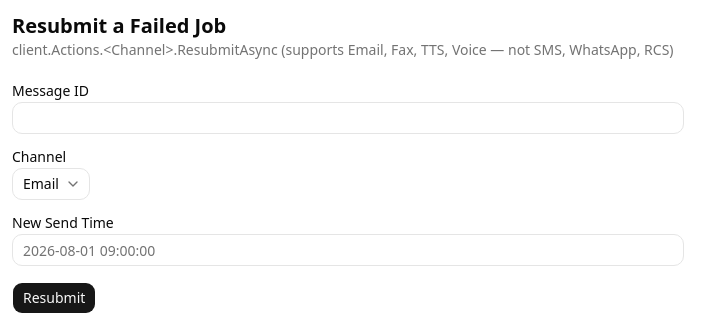
Test: ResubmitPage › only offers Email/Fax/TTS/Voice — not SMS/WhatsApp/RCS
This screenshot has width=701, height=330.
Click the dropdown named "Channel": click(51, 184) x1=12 y1=168 x2=90 y2=200
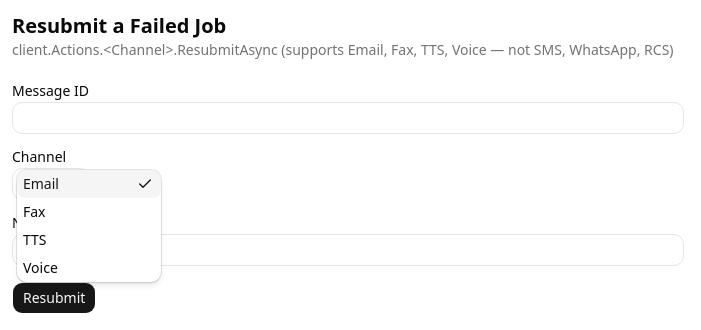
Expected: the option "Email" is shown, x1=17 y1=170 x2=161 y2=198
Expected: the option "Fax" is shown, x1=23 y1=202 x2=46 y2=221
Expected: the option "TTS" is shown, x1=23 y1=230 x2=46 y2=249
